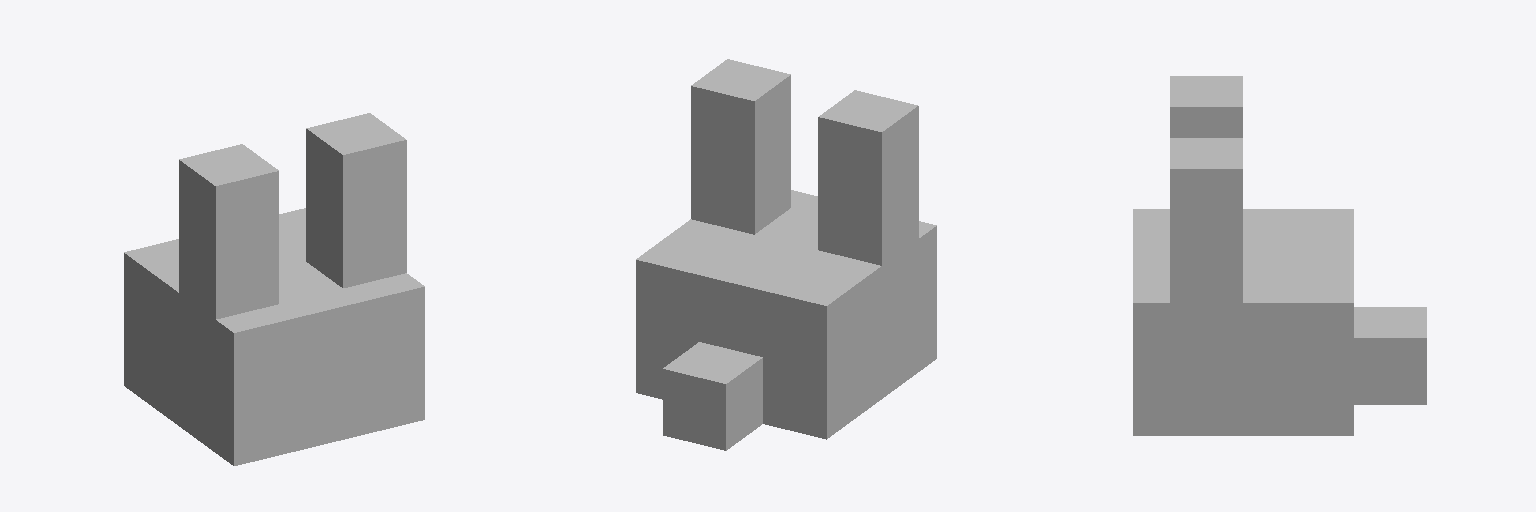
The model's file is LapinPetit.obj.
3 views of the same model, side by side, from view 1: azimuth 30°, elevation 25°; view 2: azimuth 150°, elevation 25°; view 3: azimuth 270°, elevation 25° (orthographic).
Parts seen in each view (by area): view 1: cube; view 2: cube; view 3: cube.
Boxes of the visible parts, x1=… form: cube: x1=124, y1=113, x2=424, y2=465; cube: x1=636, y1=59, x2=936, y2=450; cube: x1=1133, y1=76, x2=1426, y2=435.
Size of the model in its own units: 0.1875 by 0.25 by 0.25.